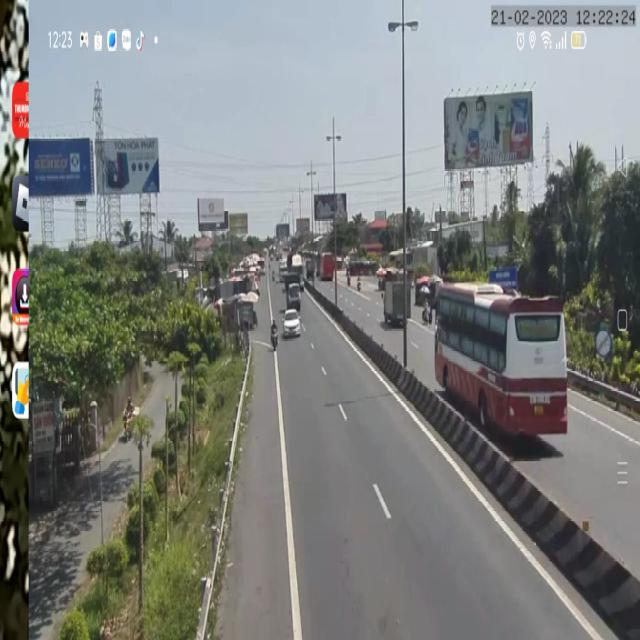bus: (434, 280, 570, 442)
car: (284, 310, 303, 338)
motorbike: (122, 395, 133, 444), (422, 295, 432, 329), (271, 318, 278, 349)
truck: (382, 277, 411, 326), (284, 271, 301, 313), (290, 251, 304, 291)
